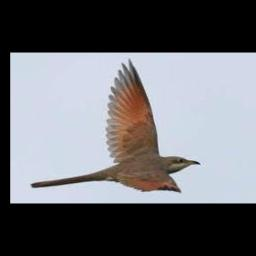Cuckoo: (32, 59, 201, 192)
